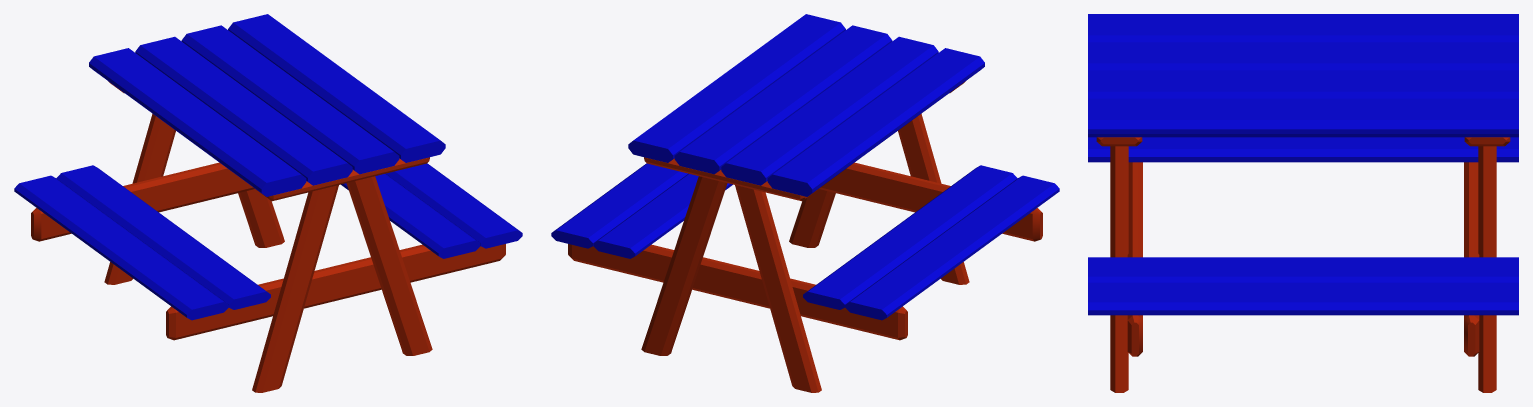
Rendered from Table-set.FBX.
The picture shows the model from 3 angles, left to right: view 1: azimuth 30°, elevation 25°; view 2: azimuth 150°, elevation 25°; view 3: azimuth 270°, elevation 25°; orthographic projection. The views are drawn at different scales.
Visible parts, largest first — view 1: Table-set; view 2: Table-set; view 3: Table-set.
Part boxes in pixels (x1,y1,x2,y2): Table-set: [14, 14, 522, 392]; Table-set: [551, 14, 1059, 392]; Table-set: [1088, 14, 1518, 392].
Bounding box in the file's own units: 1049 × 932 × 648.
